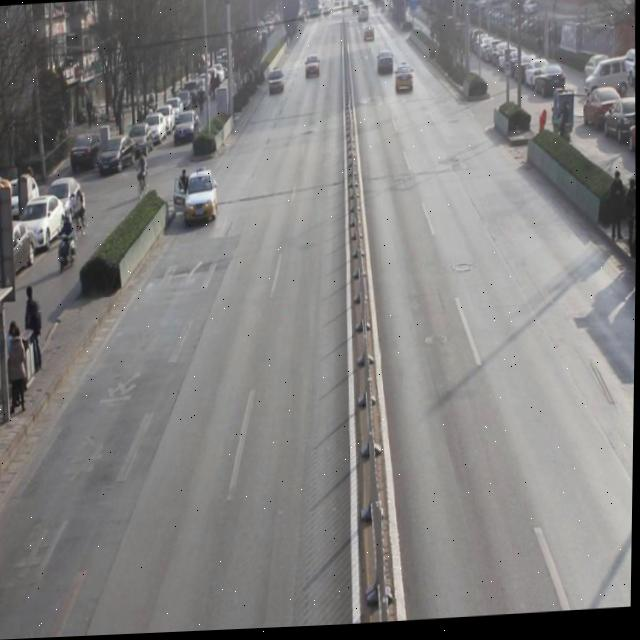car: (182, 166, 219, 225), (373, 49, 397, 83), (393, 62, 412, 98), (302, 51, 323, 83), (266, 68, 286, 97)
